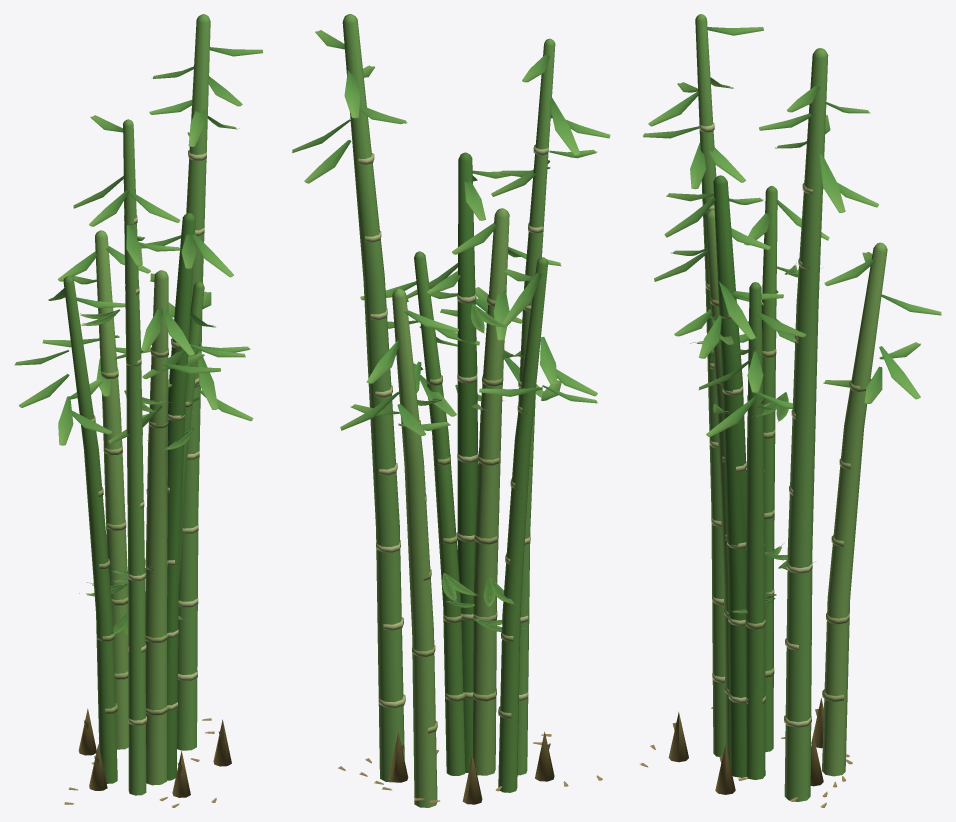
Rendered from bamboo.glb.
3 views of the same model, side by side, from view 1: azimuth 30°, elevation 25°; view 2: azimuth 150°, elevation 25°; view 3: azimuth 270°, elevation 25° (orthographic). The views are drawn at different scales.
Parts seen in each view (by area): view 1: bamboo; view 2: bamboo; view 3: bamboo.
Part boxes in pixels (x1,y1,x2,y2): bamboo: [14, 14, 262, 807]; bamboo: [292, 14, 610, 807]; bamboo: [640, 14, 941, 807].
Bounding box in the file's own units: 1.82 × 4.93 × 1.77.
